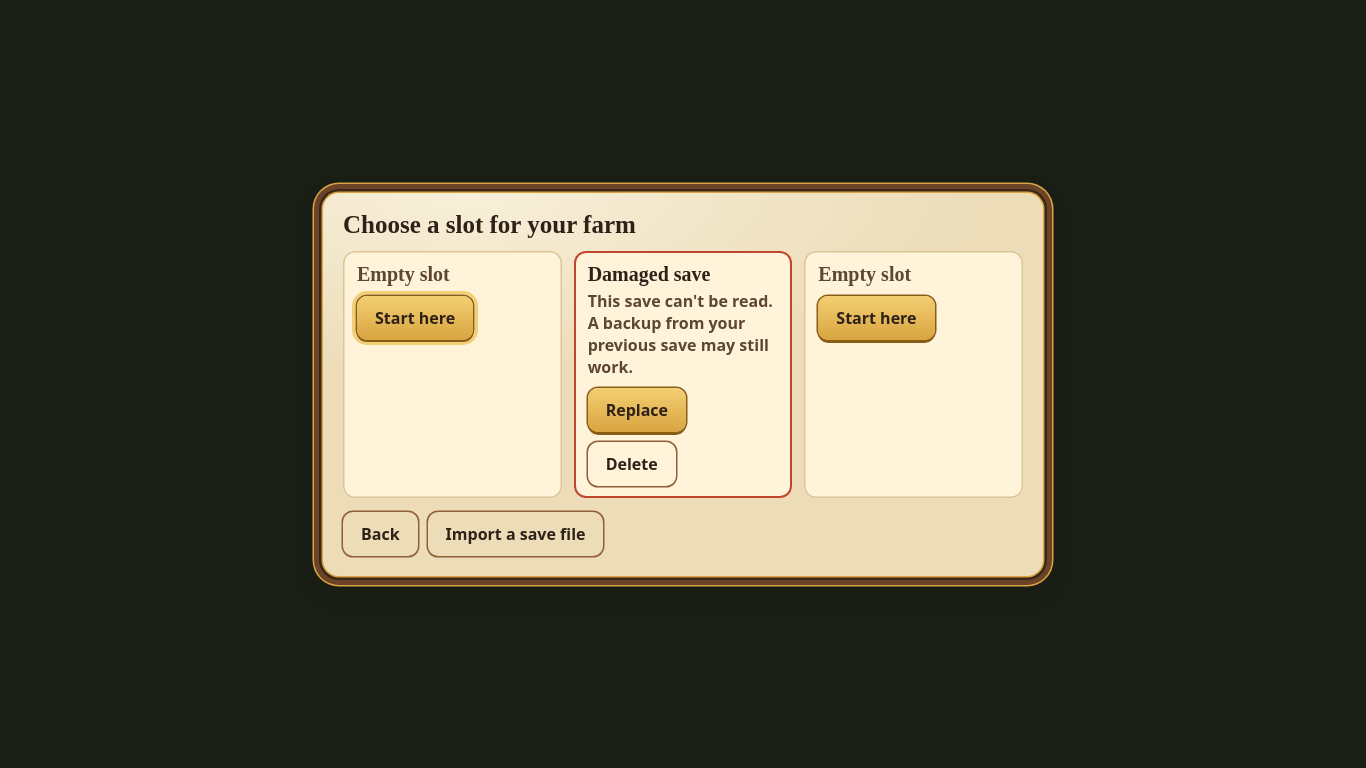
Test: SaveSlots new game on a damaged slot (review finding 9) › asks before replacing it, since that would erase the backup
Click the button "Replace": (637, 410) 588,388 -> 686,432
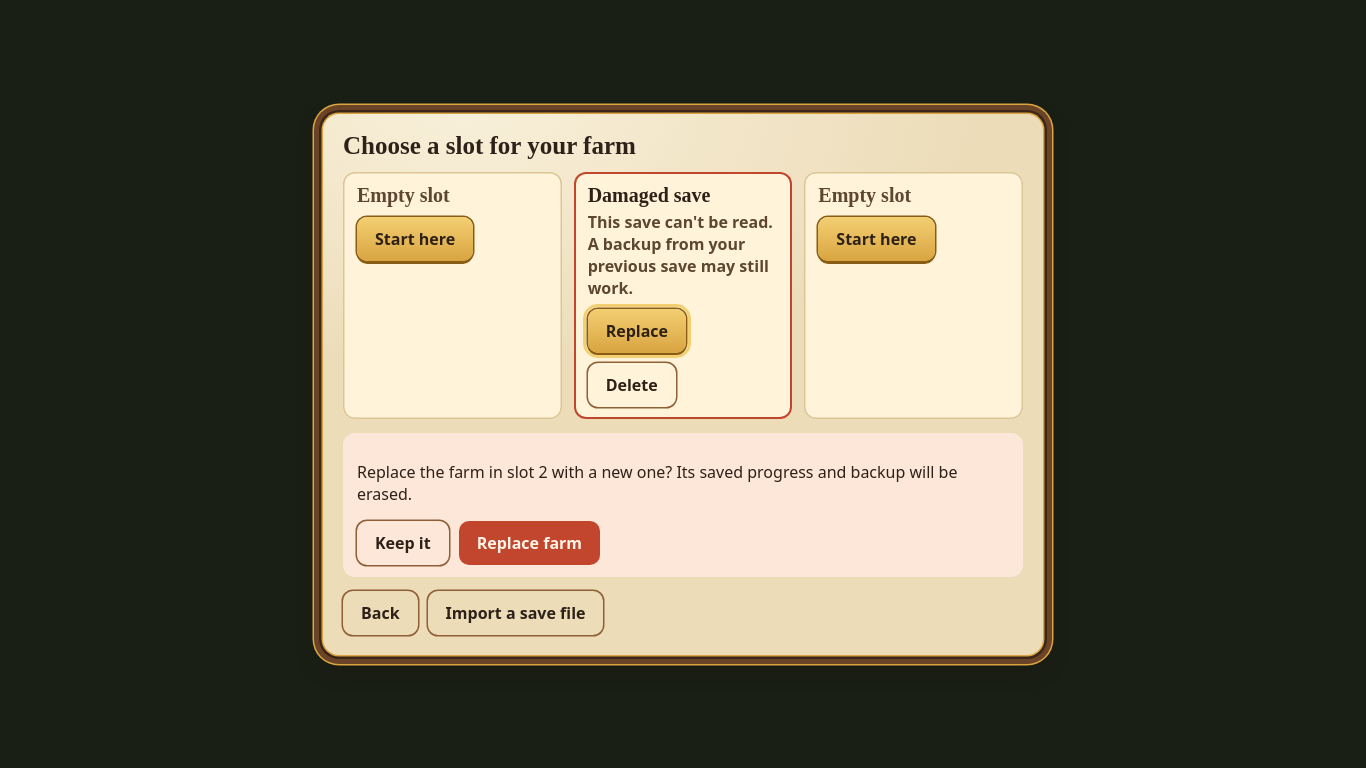
Expected: the dialog shows "backup", 357,460 -> 958,504
